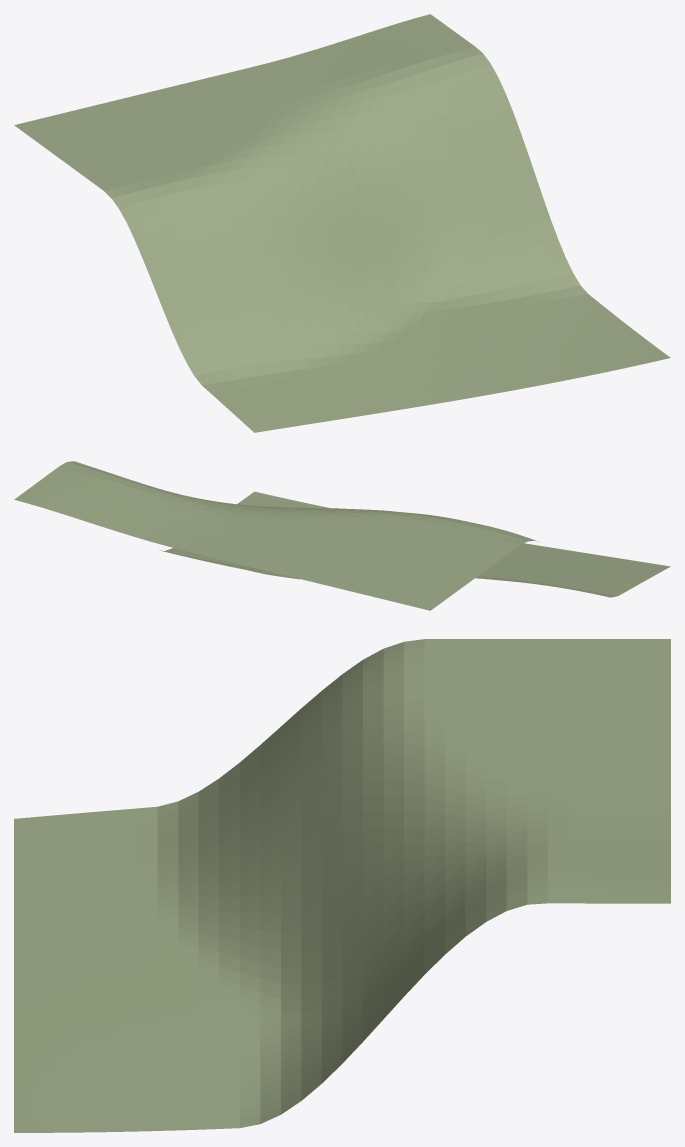
Rendered from alpine-3-11.glb.
3 renders of one model, top to bottom at view 1: azimuth 30°, elevation 25°; view 2: azimuth 150°, elevation 25°; view 3: azimuth 270°, elevation 25°, orthographic. The views are drawn at different scales.
Parts seen in each view (by area): view 1: alpine-3-11; view 2: alpine-3-11; view 3: alpine-3-11.
Boxes of the visible parts, x1,y1,x2,y2 form: alpine-3-11: [14, 14, 670, 432]; alpine-3-11: [14, 461, 670, 610]; alpine-3-11: [14, 639, 670, 1132].
Bounding box in the file's own units: 256 × 98.71 × 256.
